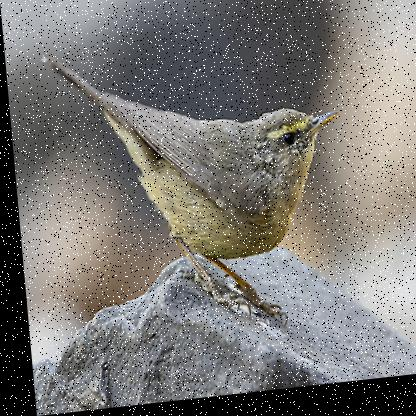Burung: (47, 30, 349, 337)
